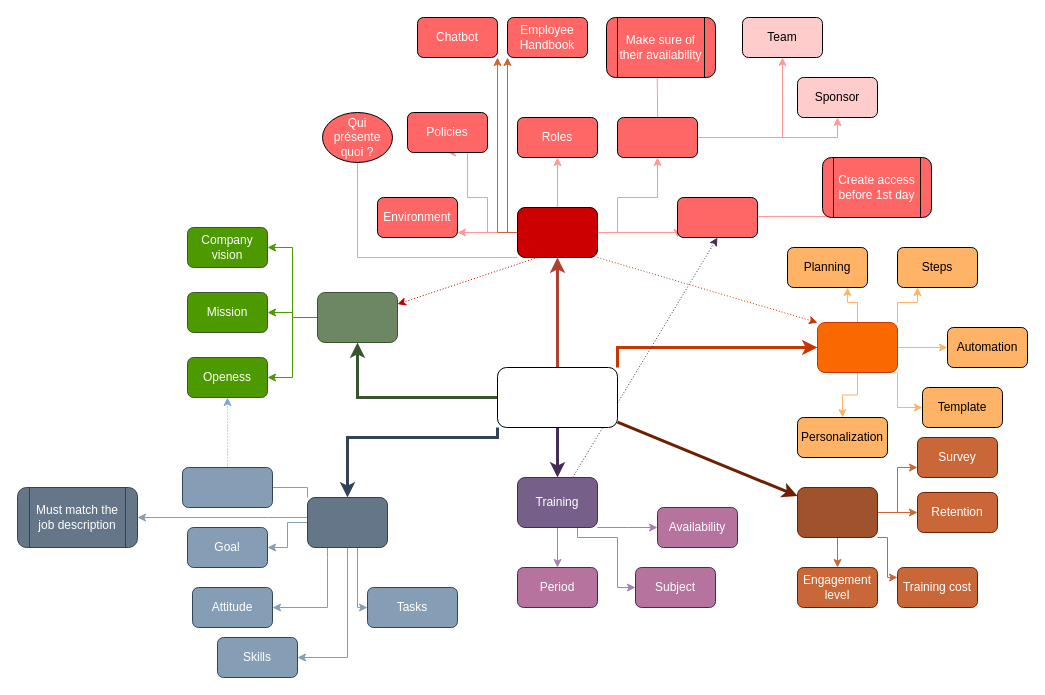
Image size: 1045x695. Some labels were removed from this diagram. The shapes that lost their labels are listed below. From the top down, each one's box as (x1, y1, x2, y2) in pixels, then its label:
(616, 116, 698, 158): People
(516, 206, 598, 258): Presentation
(676, 196, 758, 238): Tools
(316, 292, 398, 342): Culture
(816, 322, 898, 372): Process
(496, 366, 618, 428): Onboarding
(182, 466, 272, 508): Communication
(306, 496, 388, 548): Job Expectation
(796, 486, 878, 538): Metrics
